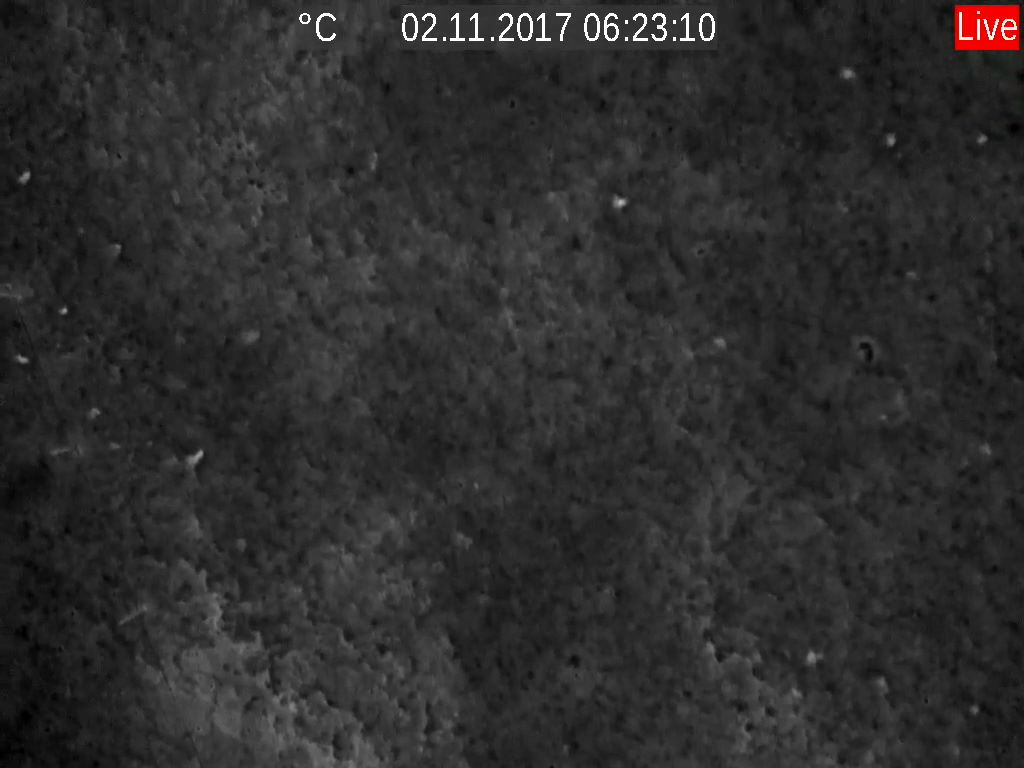warren: (109, 603, 154, 627), (179, 445, 211, 470), (45, 436, 75, 459), (609, 189, 631, 213), (10, 349, 31, 368), (17, 168, 33, 185)
